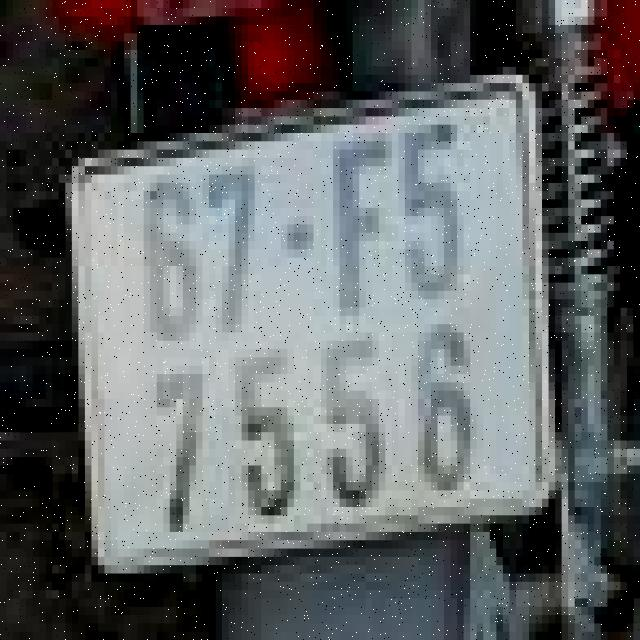5: (395, 112, 487, 304), (314, 332, 386, 524), (228, 341, 300, 524)
6: (398, 324, 477, 499), (134, 170, 206, 354)
7: (140, 362, 212, 544), (202, 158, 262, 332)
F: (323, 125, 395, 324)
